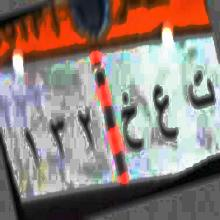1: (25, 121, 40, 172)
2: (79, 105, 95, 149)
3: (48, 117, 69, 163)
ain: (152, 80, 179, 148)
khaa: (119, 89, 144, 154)
taa: (185, 69, 215, 113)
